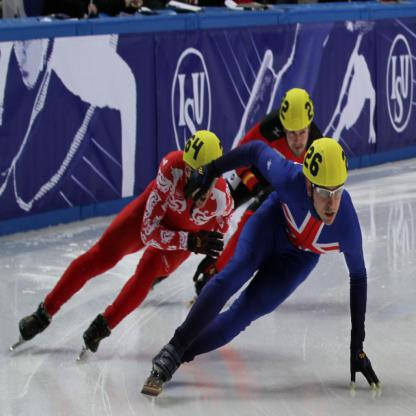face: (312, 181, 344, 226), (193, 167, 216, 209), (287, 115, 310, 154)
